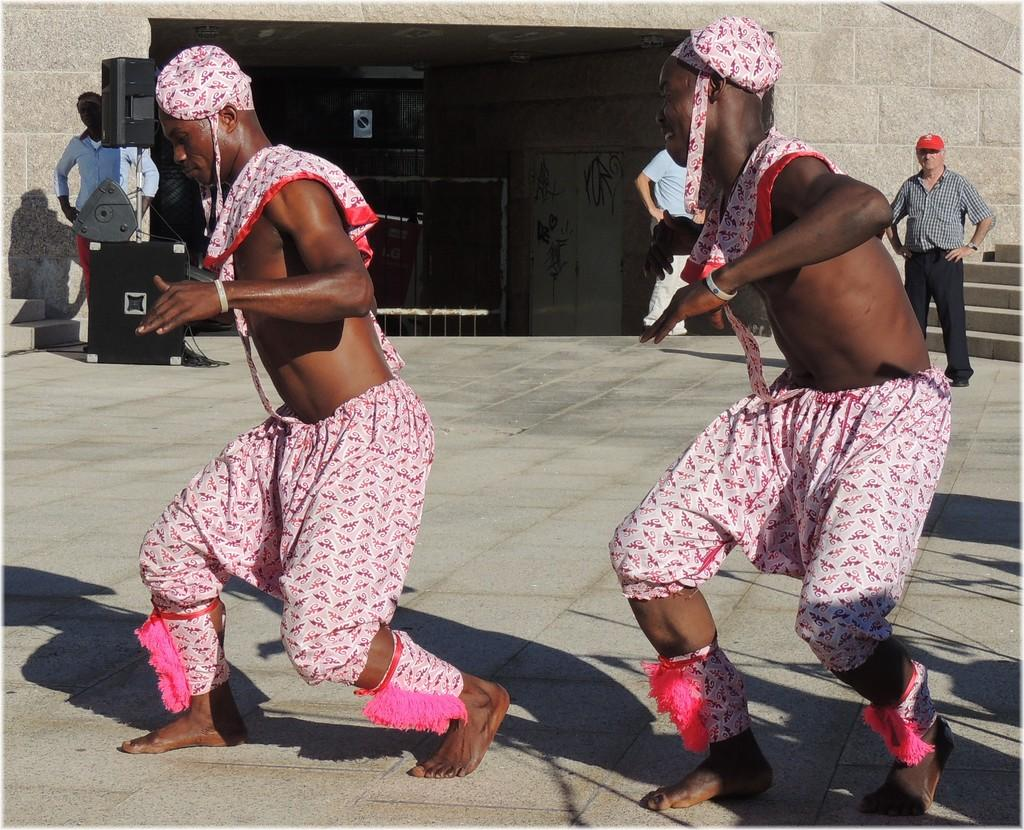Hat: (914, 130, 944, 154)
